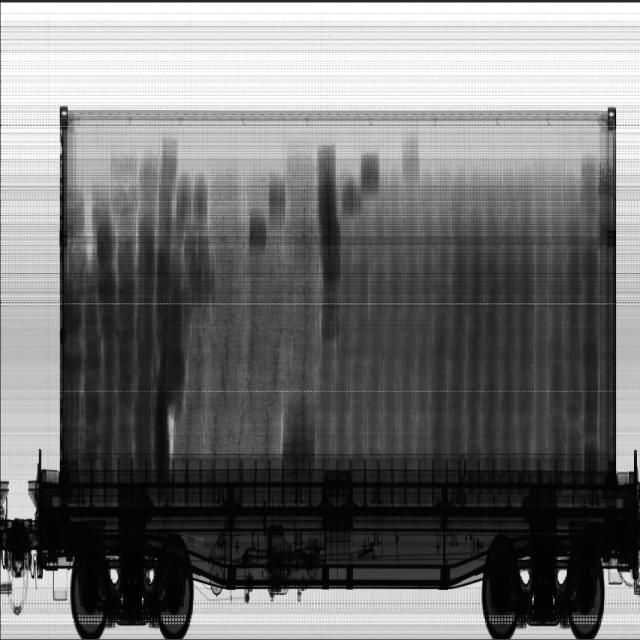clothes: (65, 141, 209, 460)
textiles: (171, 141, 613, 462)
